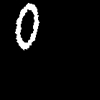chain: (15, 3, 38, 49)
